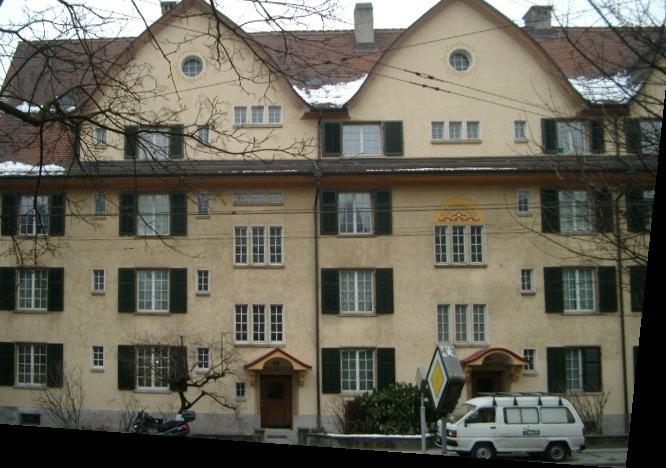window: (564, 346, 602, 391), (562, 268, 599, 314), (339, 190, 374, 236), (559, 189, 595, 233), (136, 192, 171, 237), (340, 269, 375, 314), (136, 345, 170, 391), (341, 349, 375, 394), (136, 269, 170, 313), (14, 343, 46, 387), (343, 124, 383, 159), (18, 194, 50, 237), (17, 269, 49, 312), (557, 119, 586, 154), (139, 125, 169, 158), (179, 54, 207, 80), (449, 47, 476, 73), (269, 226, 284, 265), (269, 305, 284, 344), (470, 226, 485, 264), (235, 227, 249, 266), (235, 305, 249, 344), (473, 305, 487, 344), (252, 227, 266, 265), (252, 305, 266, 343), (435, 227, 449, 265), (453, 227, 467, 265), (439, 305, 452, 344), (456, 305, 469, 343), (518, 190, 532, 215), (197, 270, 210, 294), (197, 194, 211, 216), (197, 348, 210, 369), (197, 125, 210, 146), (523, 270, 535, 292), (525, 350, 537, 372), (269, 106, 282, 125), (432, 122, 445, 141), (515, 121, 528, 140), (93, 269, 103, 293), (252, 106, 265, 124), (93, 346, 103, 369), (95, 195, 105, 218), (450, 122, 462, 141), (468, 122, 480, 141), (234, 107, 247, 124), (96, 128, 106, 147), (236, 382, 247, 399), (252, 193, 266, 203), (269, 193, 283, 203), (234, 193, 247, 203)
